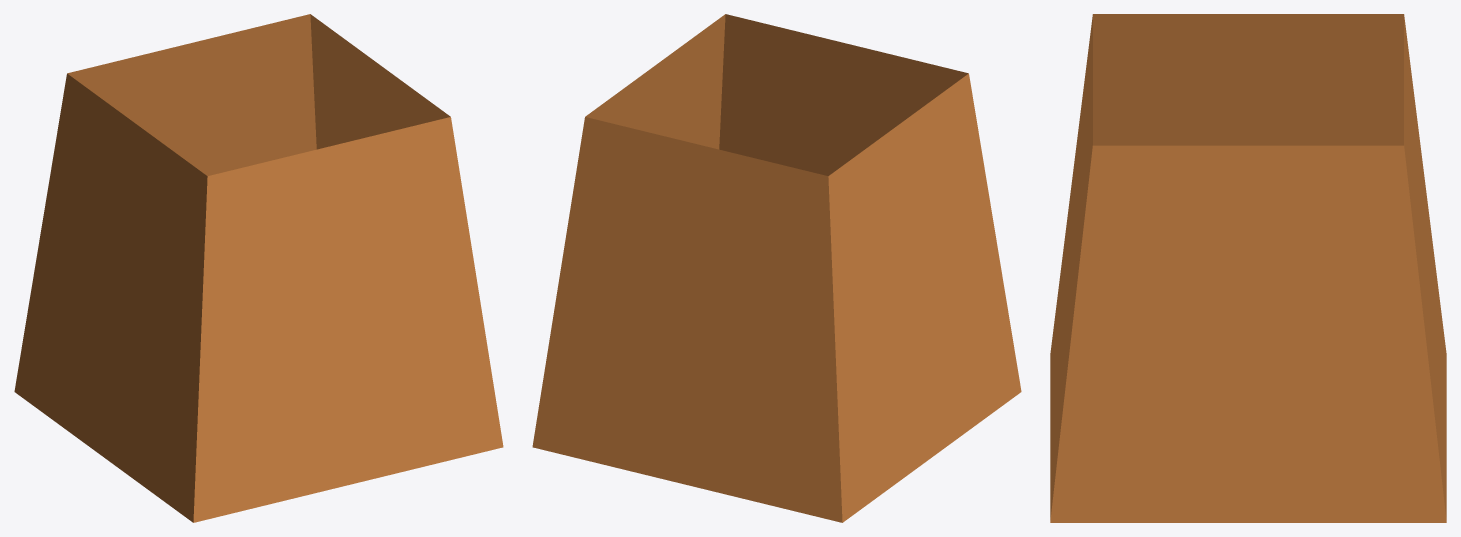
Rendered from fire.fbx.
3 renders of one model, left to right at view 1: azimuth 30°, elevation 25°; view 2: azimuth 150°, elevation 25°; view 3: azimuth 270°, elevation 25°, orthographic. The views are drawn at different scales.
Visible parts, largest first — view 1: Fire; view 2: Fire; view 3: Fire.
Part boxes in pixels (<box>): Fire: <box>14,14,503,522</box>; Fire: <box>532,14,1021,522</box>; Fire: <box>1050,14,1446,522</box>.
Bounding box in the file's own units: 100 × 100 × 100.
